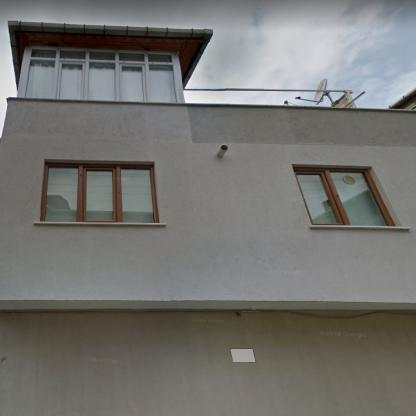window: (24, 49, 178, 101), (44, 165, 154, 222), (297, 172, 388, 224)
